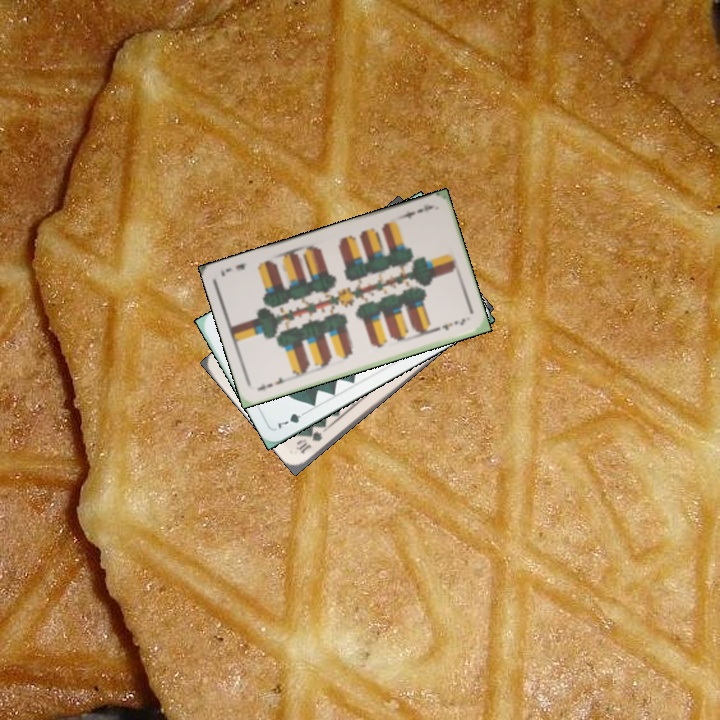E7: (253, 373, 292, 393), (396, 201, 435, 221)
G10: (292, 427, 325, 457)
G7: (274, 407, 311, 432)
